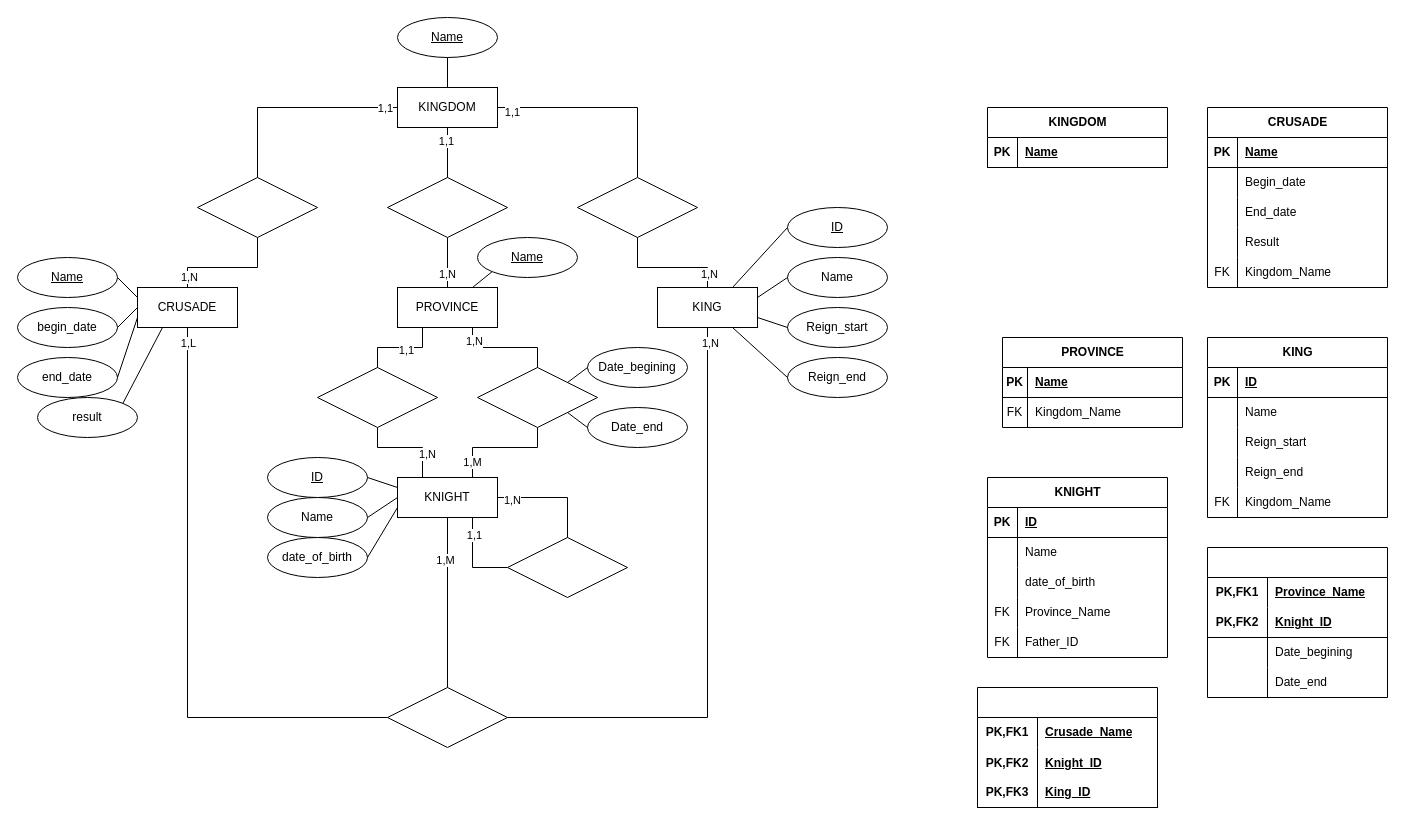
This 1405x825 diagram has some shape labels left out. The box of each missing label's shape, as (x1, y1, x2, y2) in pixels:
Born_In 1:N: (316, 366, 438, 428)
Contains 1:N: (386, 176, 508, 238)
Father 1:N: (506, 536, 628, 598)
GOVERN: (1206, 546, 1388, 698)
Govern N:M: (476, 366, 598, 428)
PARTICIPATE: (976, 686, 1158, 808)
Participate N:M:L: (386, 686, 508, 748)
Resigned_by 1:N: (576, 176, 698, 238)
Waged_Against 1:N: (196, 176, 318, 238)
